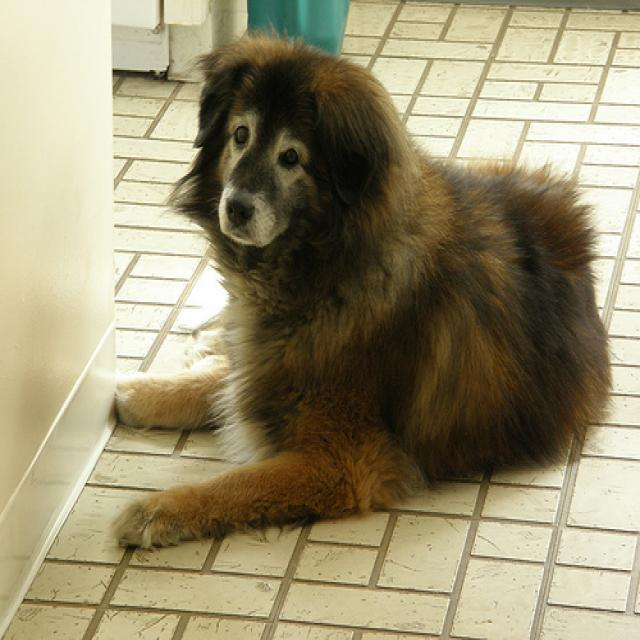dog-leonberger: (100, 10, 622, 553)
